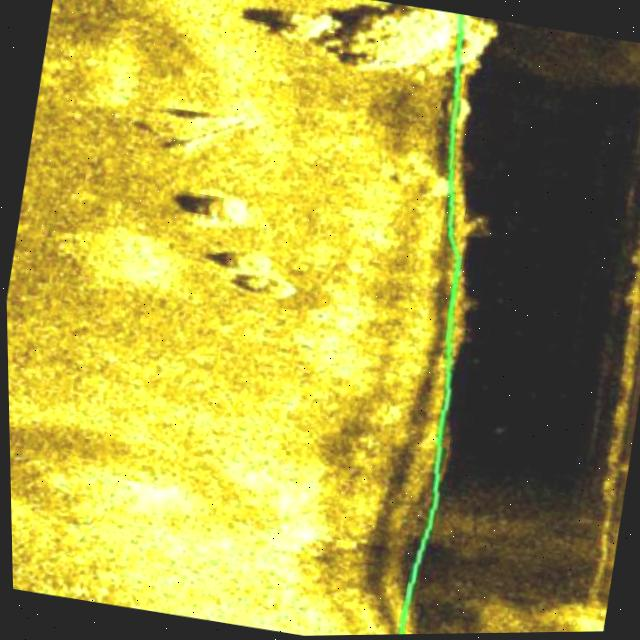bedrock group: (264, 0, 499, 94)
